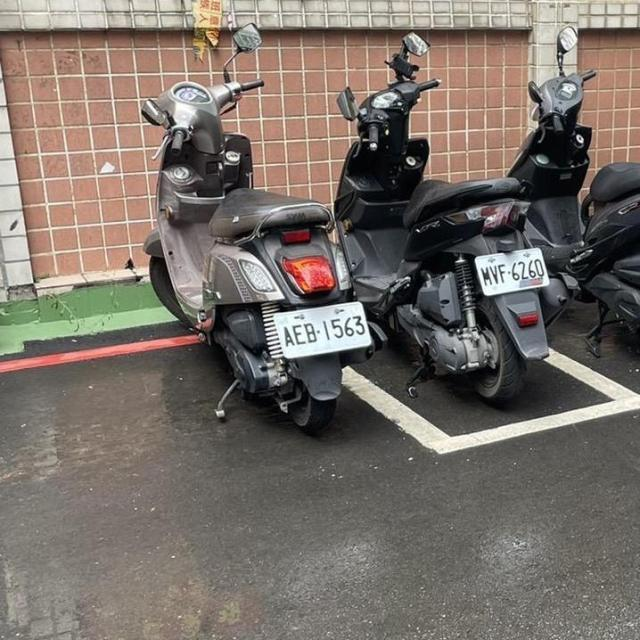W: (268, 298, 376, 360), (469, 247, 553, 297)
